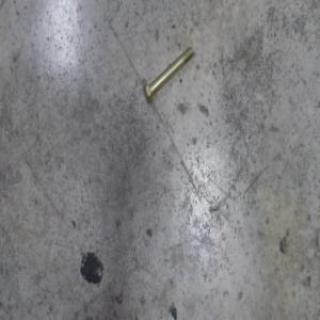Bolttrack_idkeyframe: (141, 44, 194, 103)
